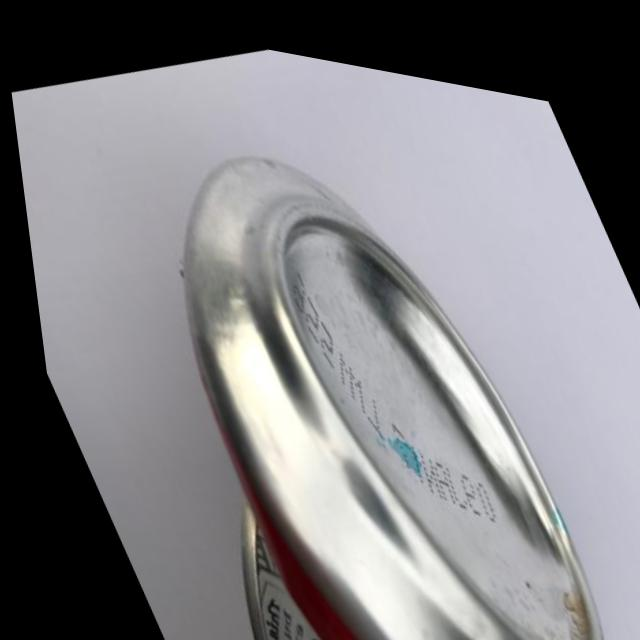metal: (2, 18, 640, 640)
